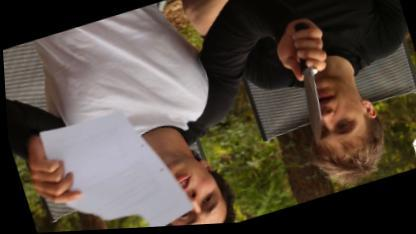knife: (272, 13, 355, 154)
